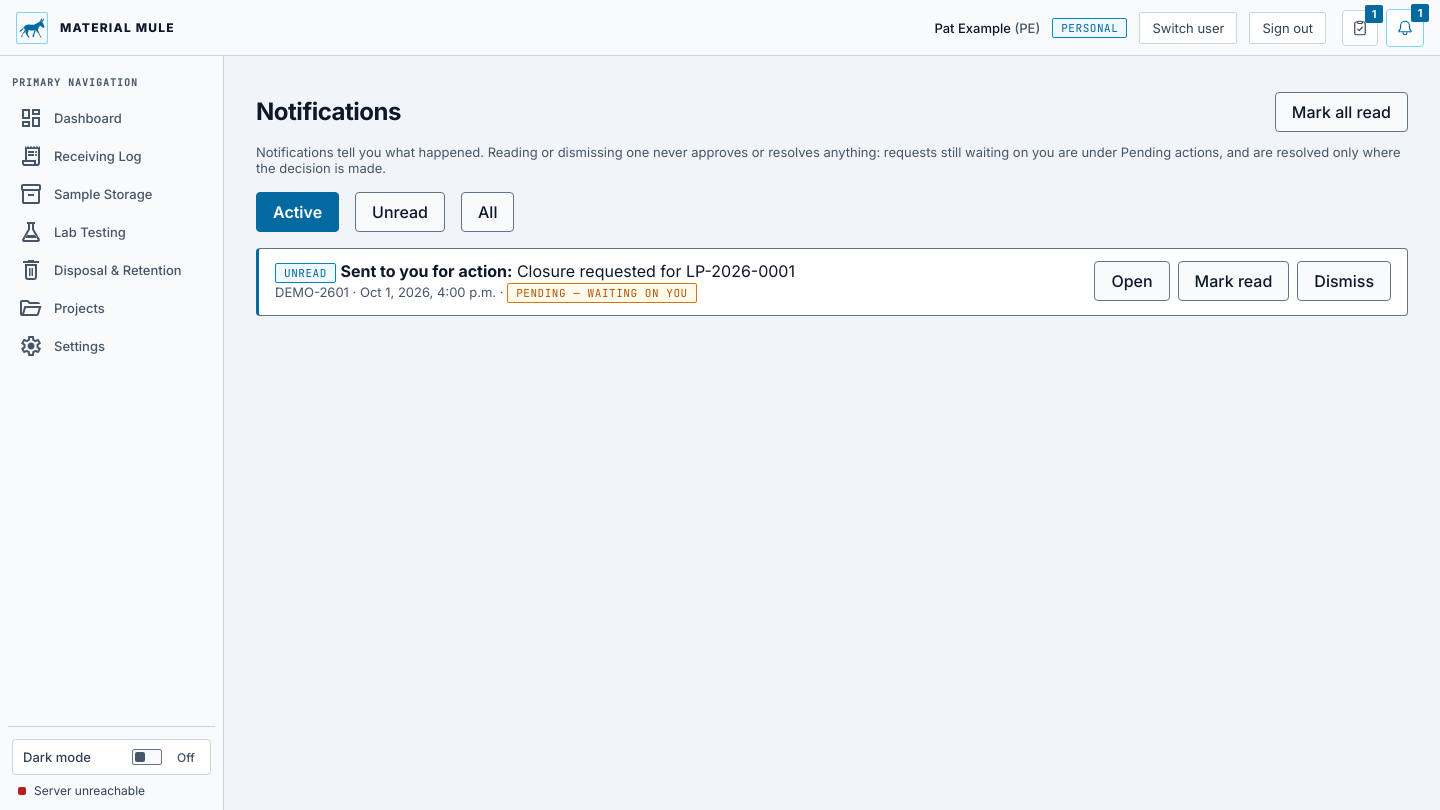
it: Notification center (MM-T91) › Open marks the notification read and goes to the item without resolving it
This screenshot has width=1440, height=810.
What coordinates should you click on to do the following:
click the link "Open"
I would click on:
 (1132, 281)
Its box is [1094,261,1170,301].
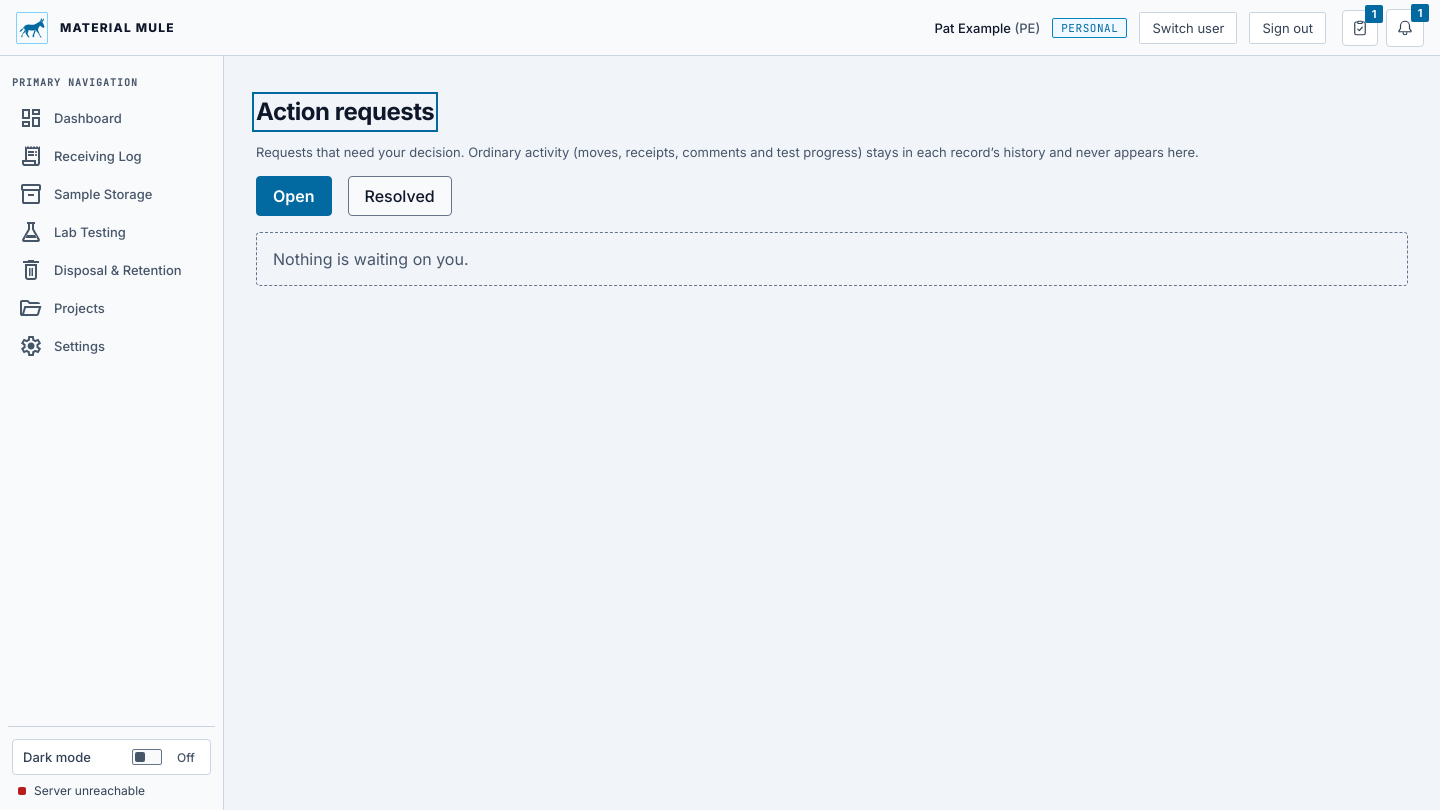
Expected: the heading "Action requests" is shown, [256,96,434,128]
